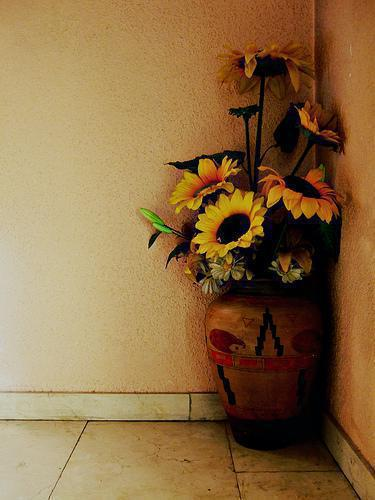Matera: (144, 32, 346, 460)
